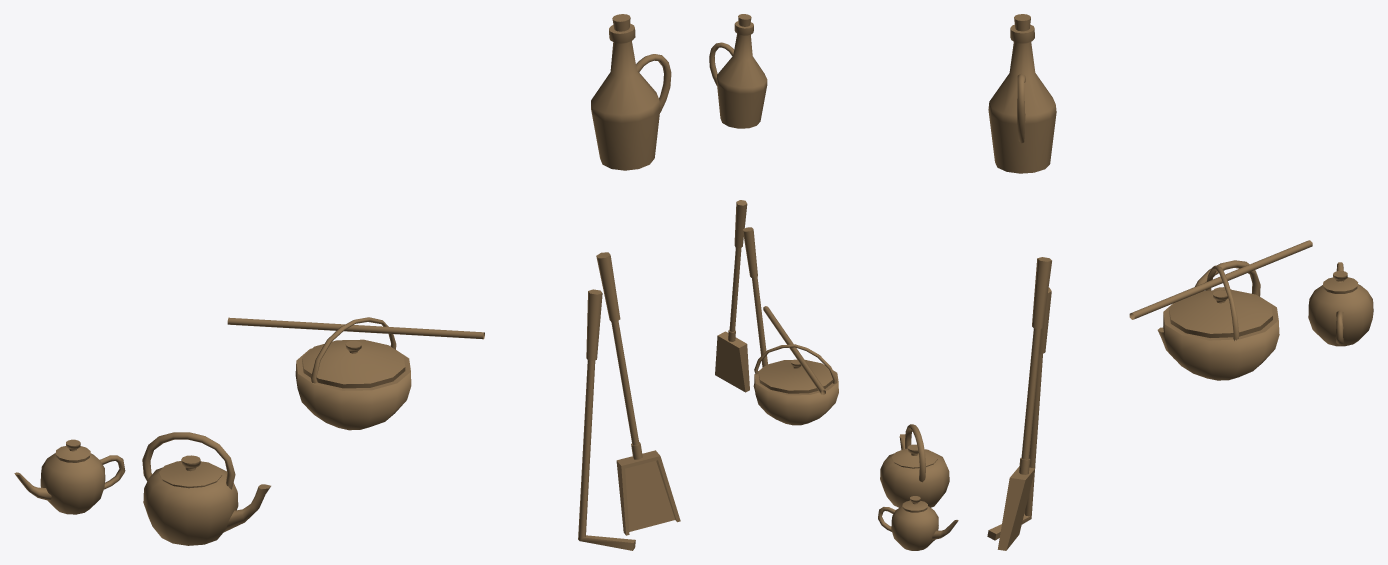
The model's file is kamin_draft_Lv2.fbx.
The picture shows the model from 3 angles, left to right: view 1: azimuth 30°, elevation 25°; view 2: azimuth 150°, elevation 25°; view 3: azimuth 270°, elevation 25°; orthographic projection. The views are drawn at different scales.
Visible parts, largest first — view 1: kamin_2lvl_low2; view 2: kamin_2lvl_low2; view 3: kamin_2lvl_low2.
Boxes of the visible parts, left/top/right/bottom form: kamin_2lvl_low2: left=14, top=14, right=680, bottom=550; kamin_2lvl_low2: left=709, top=14, right=958, bottom=550; kamin_2lvl_low2: left=987, top=14, right=1373, bottom=550.
Bounding box in the file's own units: 171 × 170 × 114.
